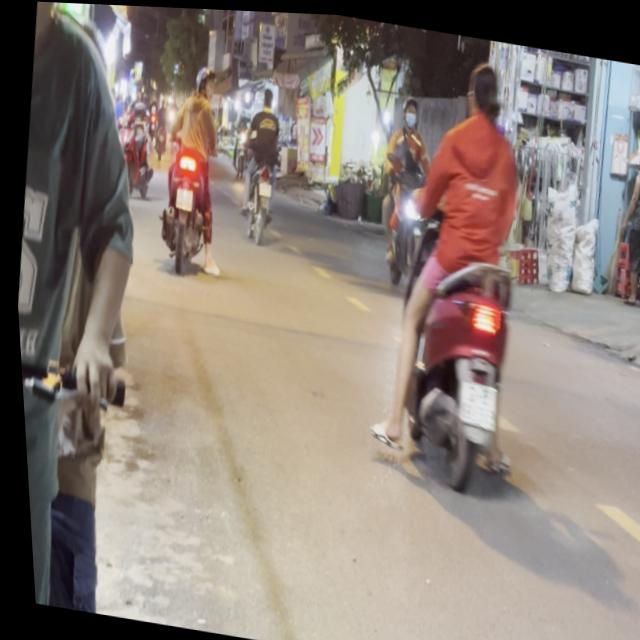helmet: (400, 90, 421, 129)
licenseplate: (350, 38, 557, 502)
motorcyclist: (462, 54, 506, 120)
nohelmet: (451, 374, 496, 426)
